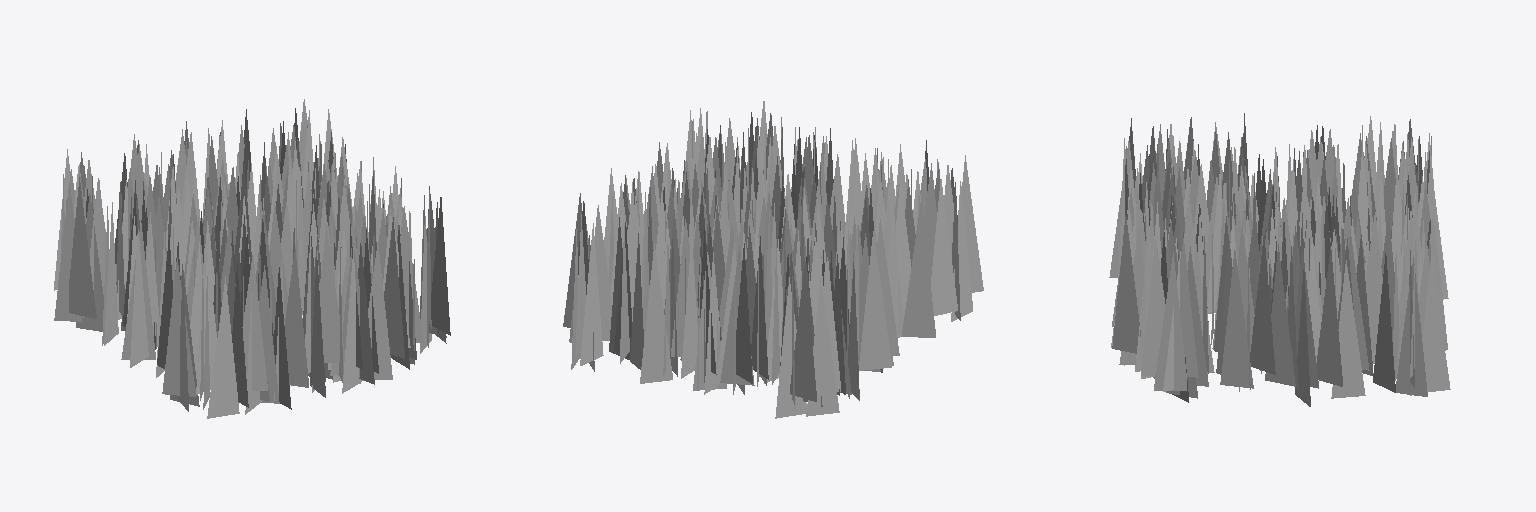
The model's file is grass_patch.obj.
The picture shows the model from 3 angles: view 1: azimuth 30°, elevation 25°; view 2: azimuth 150°, elevation 25°; view 3: azimuth 270°, elevation 25°; orthographic projection.
Parts seen in each view (by area): view 1: Blade.163_Plane.163, Blade.253_Plane.253, Blade.057_Plane.057, Blade.073_Plane.073, Blade.277_Plane.277, Blade.172_Plane.172, Blade.297_Plane.297, Blade.130_Plane.130, Blade.144_Plane.144, Blade.025_Plane.025, Blade.139_Plane.139, Blade.080_Plane.080 (+24 smaller); view 2: Blade.139_Plane.139, Blade.013_Plane.013, Blade.154_Plane.154, Blade.037_Plane.037, Blade.187_Plane.187, Blade.252_Plane.252, Blade.152_Plane.152, Blade.279_Plane.279, Blade.108_Plane.108, Blade.281_Plane.281, Blade.274_Plane.274, Blade.229_Plane.229 (+28 smaller); view 3: Blade.058_Plane.058, Blade.055_Plane.055, Blade.220_Plane.220, Blade.126_Plane.126, Blade.299_Plane.299, Blade.038_Plane.038, Blade.224_Plane.224, Blade.076_Plane.076, Blade.117_Plane.117, Blade.144_Plane.144, Blade.274_Plane.274, Blade.181_Plane.181 (+24 smaller).
Part boxes in pixels (x1,y1,x2,y2): Blade.163_Plane.163: (207, 276, 239, 418); Blade.253_Plane.253: (69, 177, 96, 318); Blade.057_Plane.057: (284, 249, 308, 387); Blade.073_Plane.073: (319, 223, 344, 362); Blade.277_Plane.277: (162, 258, 196, 396); Blade.172_Plane.172: (242, 255, 267, 390); Blade.297_Plane.297: (362, 243, 392, 380); Blade.130_Plane.130: (384, 217, 404, 358); Blade.144_Plane.144: (429, 197, 450, 335); Blade.025_Plane.025: (54, 183, 81, 321); Blade.139_Plane.139: (130, 229, 148, 367); Blade.080_Plane.080: (259, 265, 279, 403); Blade.139_Plane.139: (902, 199, 935, 337); Blade.013_Plane.013: (859, 231, 891, 370); Blade.154_Plane.154: (640, 243, 672, 383); Blade.037_Plane.037: (806, 278, 839, 416); Blade.187_Plane.187: (931, 179, 957, 315); Blade.252_Plane.252: (790, 262, 816, 401); Blade.152_Plane.152: (580, 223, 603, 365); Blade.279_Plane.279: (775, 277, 806, 418); Blade.108_Plane.108: (736, 243, 752, 383); Blade.281_Plane.281: (681, 236, 697, 378); Blade.274_Plane.274: (595, 205, 611, 340); Blade.229_Plane.229: (962, 155, 983, 292); Blade.058_Plane.058: (1220, 250, 1253, 388); Blade.055_Plane.055: (1331, 260, 1365, 398); Blade.220_Plane.220: (1112, 215, 1140, 353); Blade.126_Plane.126: (1422, 252, 1450, 391); Blade.299_Plane.299: (1316, 247, 1342, 386); Blade.038_Plane.038: (1154, 252, 1186, 390); Blade.224_Plane.224: (1265, 244, 1295, 386); Blade.076_Plane.076: (1250, 235, 1275, 374); Blade.117_Plane.117: (1396, 257, 1427, 396); Blade.144_Plane.144: (1141, 239, 1165, 375); Blade.274_Plane.274: (1373, 253, 1395, 392); Blade.181_Plane.181: (1366, 212, 1382, 349).
Bounding box in the file's own units: 1.1 × 0.599 × 1.1.